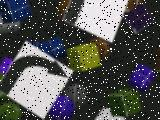Right: (0, 41, 74, 119), (63, 0, 129, 43)
